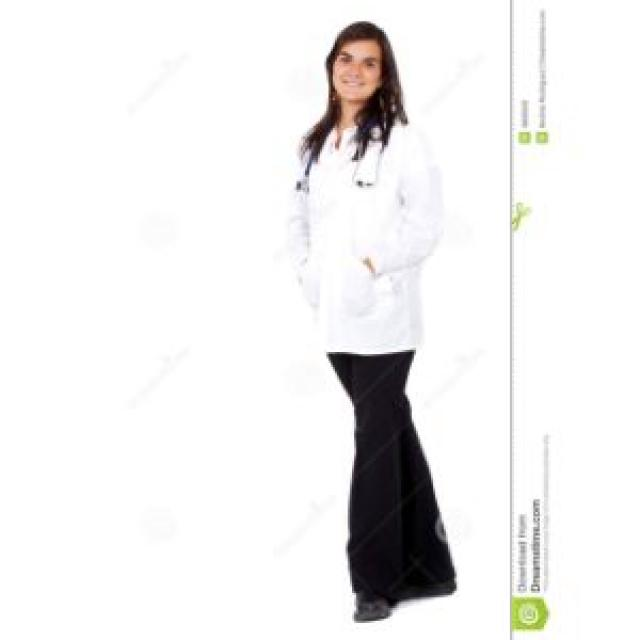adult: (254, 13, 482, 621)
